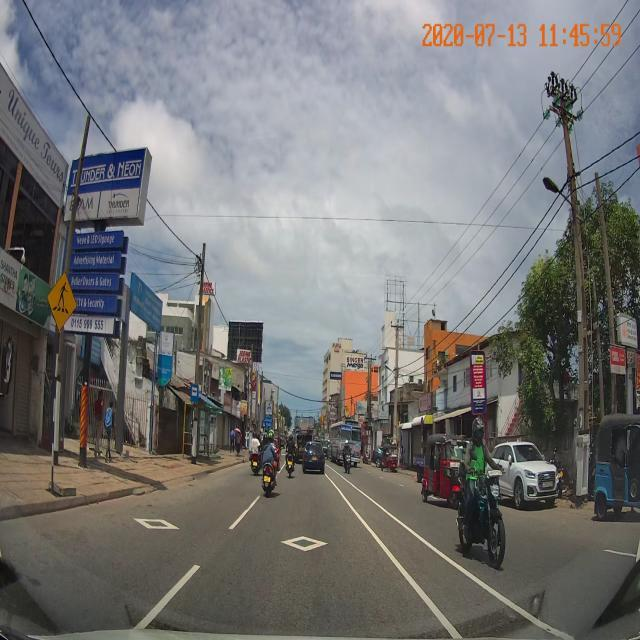diamond: (191, 516, 404, 568)
